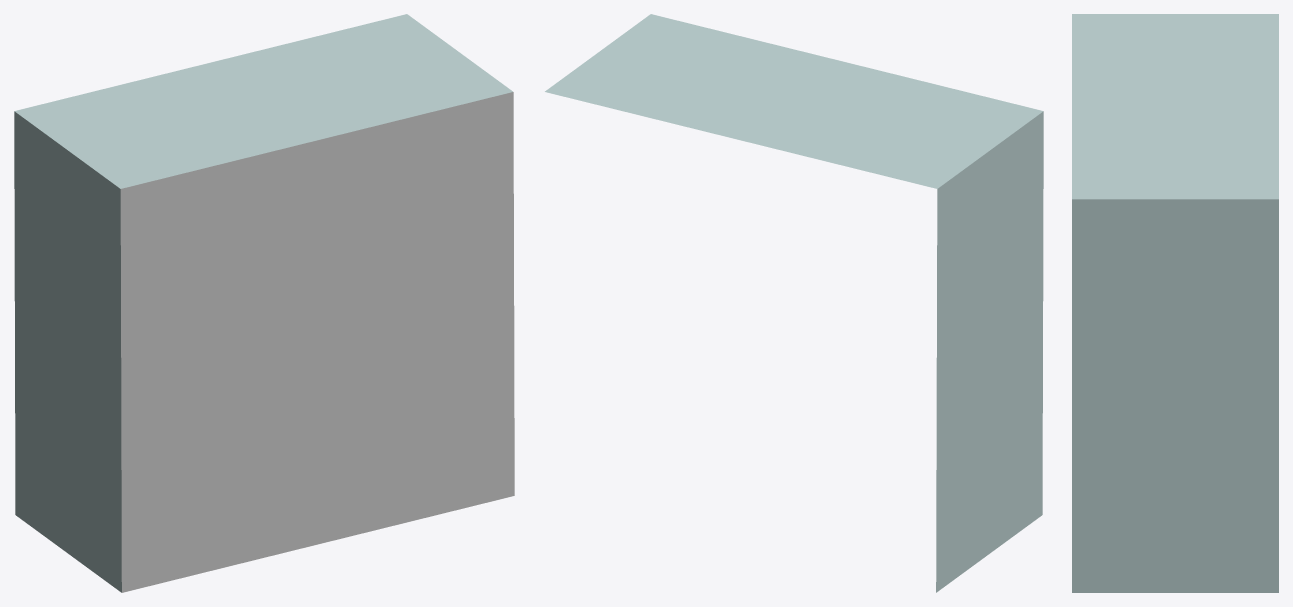
3 renders of one model, left to right at view 1: azimuth 30°, elevation 25°; view 2: azimuth 150°, elevation 25°; view 3: azimuth 270°, elevation 25°, orthographic. The views are drawn at different scales.
Parts seen in each view (by area): view 1: 0_3_1_2_3_3_1_3_1; view 2: 0_3_1_2_3_3_1_3_1; view 3: 0_3_1_2_3_3_1_3_1.
Boxes of the visible parts, x1,y1,x2,y2 form: 0_3_1_2_3_3_1_3_1: [14, 14, 514, 592]; 0_3_1_2_3_3_1_3_1: [545, 14, 1043, 592]; 0_3_1_2_3_3_1_3_1: [1072, 14, 1278, 592].
Bounding box in the file's own units: 6.42 × 6.31 × 3.
